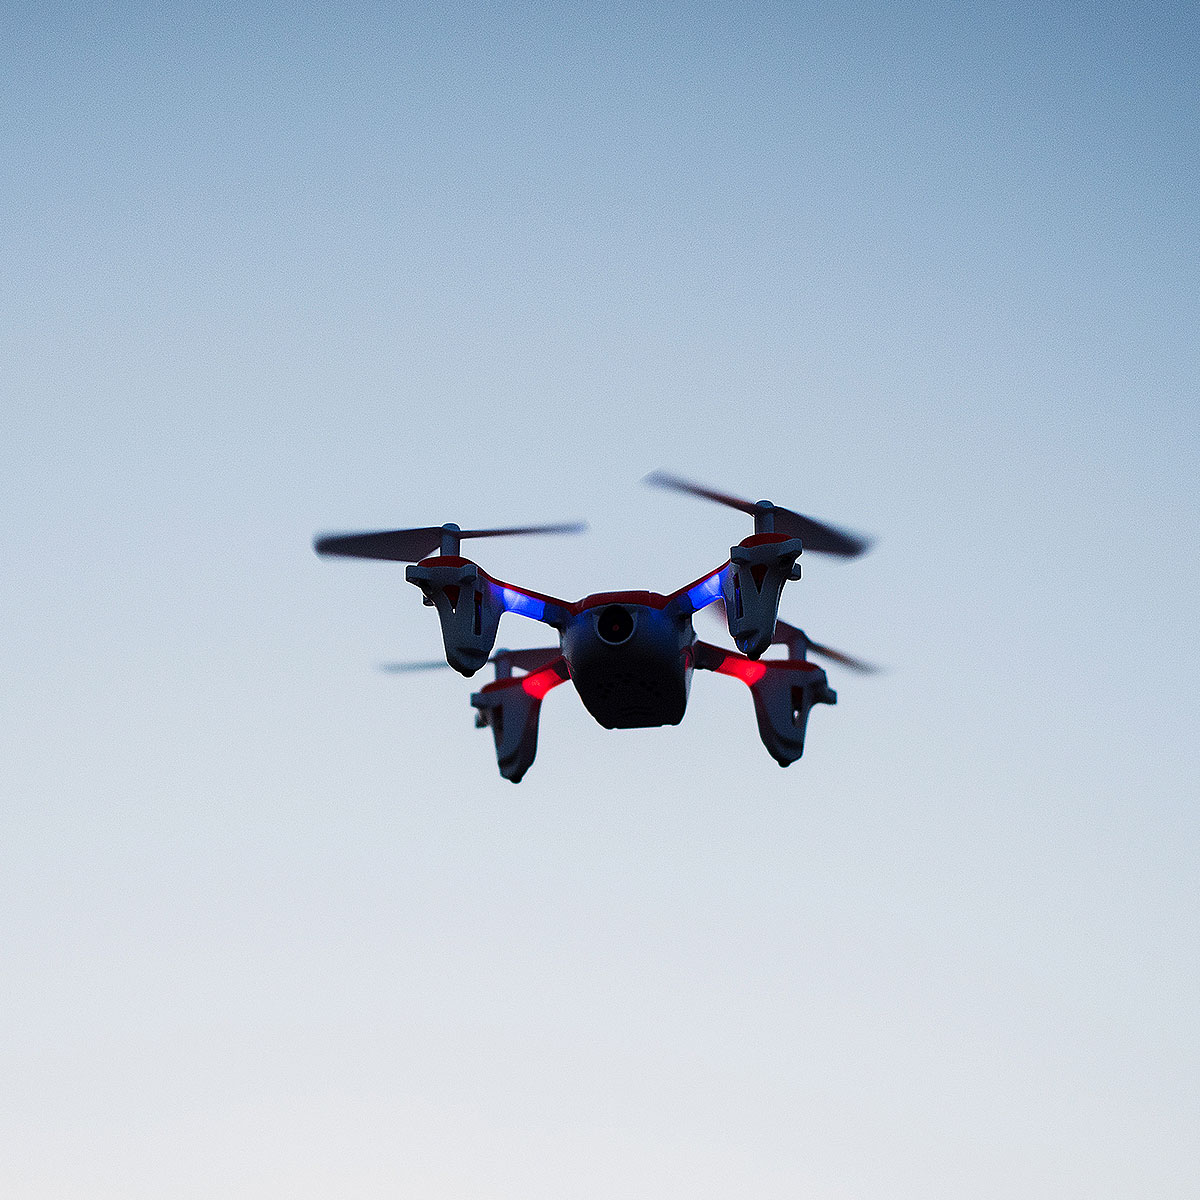drone: (308, 466, 902, 788)
